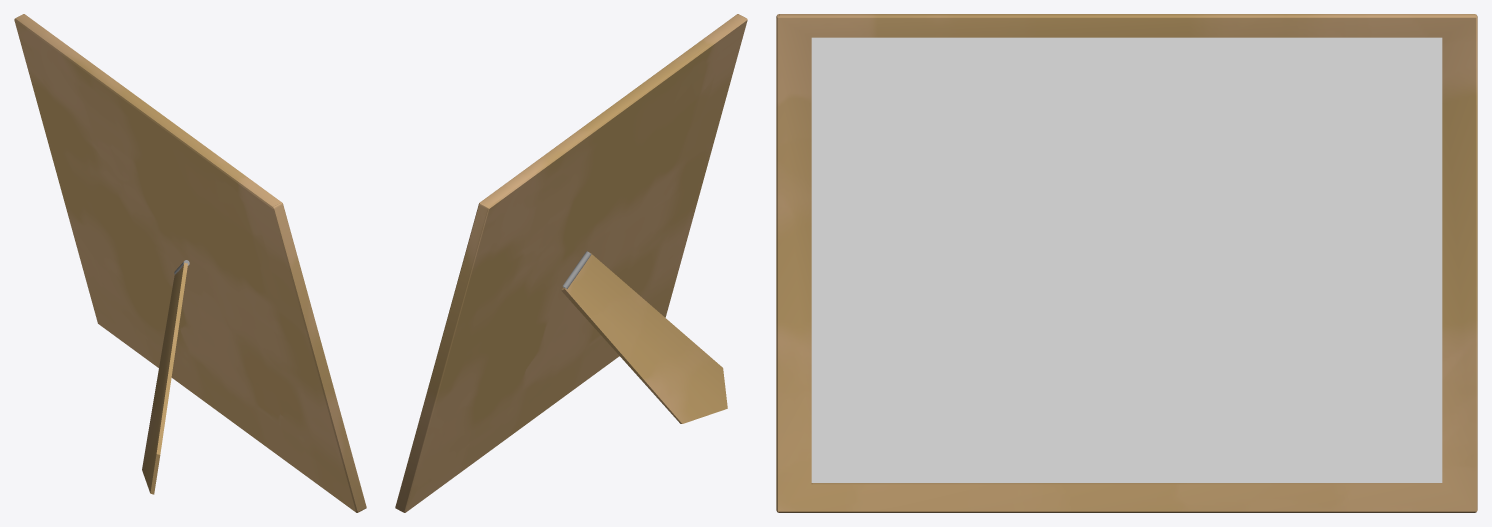
File: pictureframe.fbx
3 renders of one model, left to right at view 1: azimuth 30°, elevation 25°; view 2: azimuth 150°, elevation 25°; view 3: azimuth 270°, elevation 25°, orthographic. The views are drawn at different scales.
Parts seen in each view (by area): view 1: standing_picture_frame; view 2: standing_picture_frame; view 3: standing_picture_frame.
Part boxes in pixels (box(x1,y1,x2,y2)): standing_picture_frame: box(14, 14, 366, 512); standing_picture_frame: box(395, 14, 747, 512); standing_picture_frame: box(776, 14, 1477, 512).
Bounding box in the file's own units: 0.8998 × 1.95 × 2.78.
Materials: 3 (1 with a texture image).
